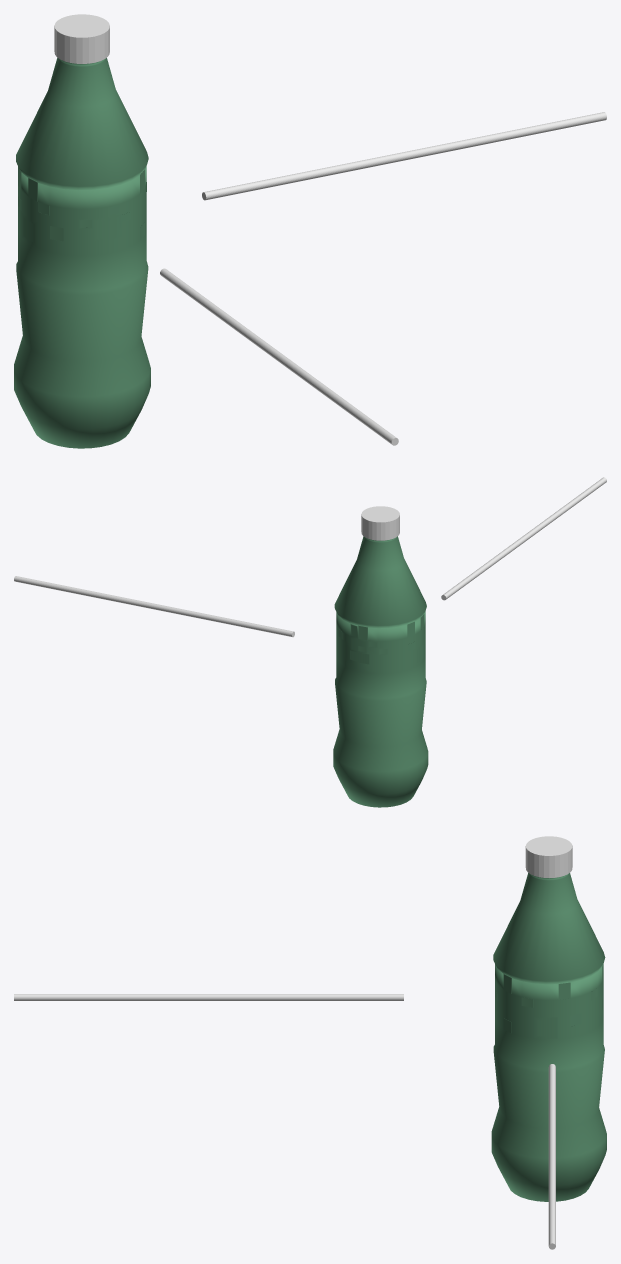
Rendered from birdfeeder_green.glb.
The picture shows the model from 3 angles, top to bottom: view 1: azimuth 30°, elevation 25°; view 2: azimuth 150°, elevation 25°; view 3: azimuth 270°, elevation 25°; orthographic projection. The views are drawn at different scales.
Parts seen in each view (by area): view 1: bottle, Cylinder.001, Cylinder, cap, cut out pieces 3; view 2: bottle, Cylinder.001, Cylinder, cap; view 3: bottle, Cylinder, cap, Cylinder.001, cut out peices 4.
Boxes of the visible parts, x1=… form: bottle: x1=14, y1=57, x2=150, y2=448; Cylinder.001: x1=202, y1=112, x2=606, y2=200; Cylinder: x1=160, y1=268, x2=398, y2=445; cap: x1=54, y1=14, x2=109, y2=63; cut out pieces 3: x1=18, y1=166, x2=63, y2=241; bottle: x1=333, y1=536, x2=428, y2=807; Cylinder.001: x1=14, y1=576, x2=294, y2=637; Cylinder: x1=441, y1=477, x2=606, y2=600; cap: x1=361, y1=506, x2=399, y2=540; bottle: x1=491, y1=873, x2=606, y2=1201; Cylinder: x1=14, y1=994, x2=403, y2=1000; cap: x1=525, y1=836, x2=572, y2=877; Cylinder.001: x1=548, y1=1064, x2=555, y2=1249; cut out peices 4: x1=503, y1=974, x2=581, y2=1033.
Size of the model in its own units: 7.05 by 4.64 by 7.36.
